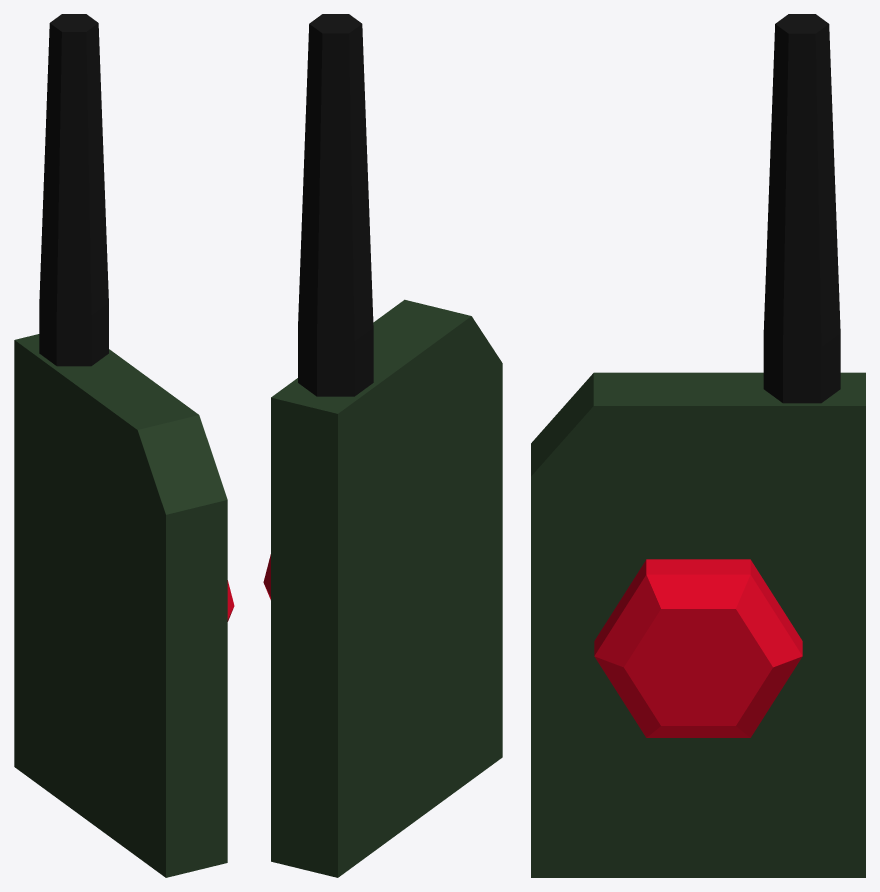
File: Doohicky.glb
3 renders of one model, left to right at view 1: azimuth 30°, elevation 25°; view 2: azimuth 150°, elevation 25°; view 3: azimuth 270°, elevation 25°, orthographic. The views are drawn at different scales.
Visible parts, largest first — view 1: Body, TheThingy; view 2: Body, TheThingy; view 3: Body, Button, TheThingy.
Boxes of the visible parts, bbox=[...] form: Body: bbox=[14, 334, 227, 877]; TheThingy: bbox=[39, 14, 108, 366]; Body: bbox=[271, 299, 502, 877]; TheThingy: bbox=[298, 14, 373, 396]; Body: bbox=[531, 372, 865, 877]; Button: bbox=[594, 559, 802, 737]; TheThingy: bbox=[763, 14, 840, 403].
Bounding box in the file's own units: 0.0931 × 0.61 × 0.2211.
